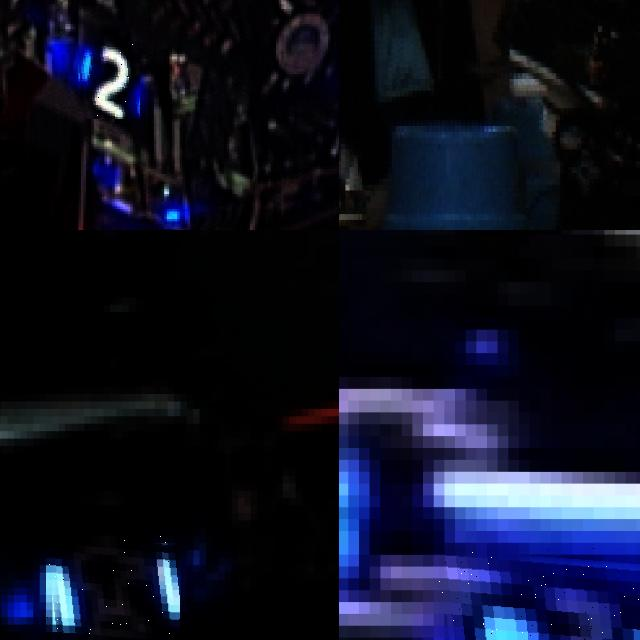B2: (76, 41, 140, 119)
B3: (439, 548, 640, 640)
Bs: (45, 535, 180, 640)
